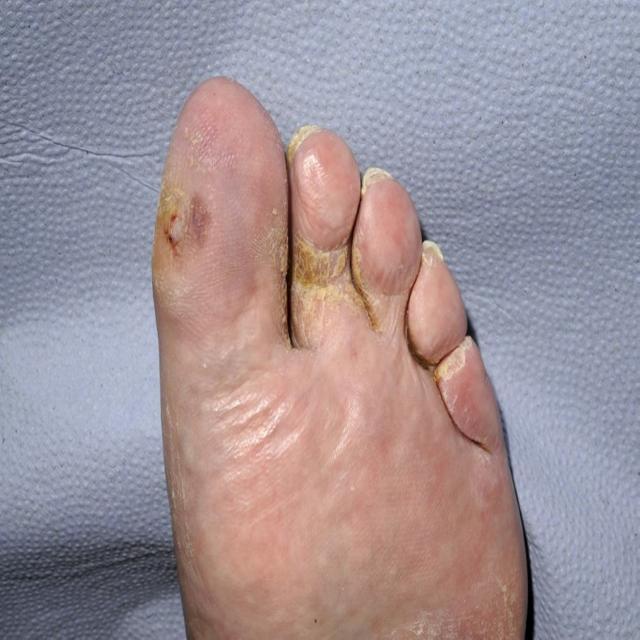wound: (154, 182, 207, 316)
